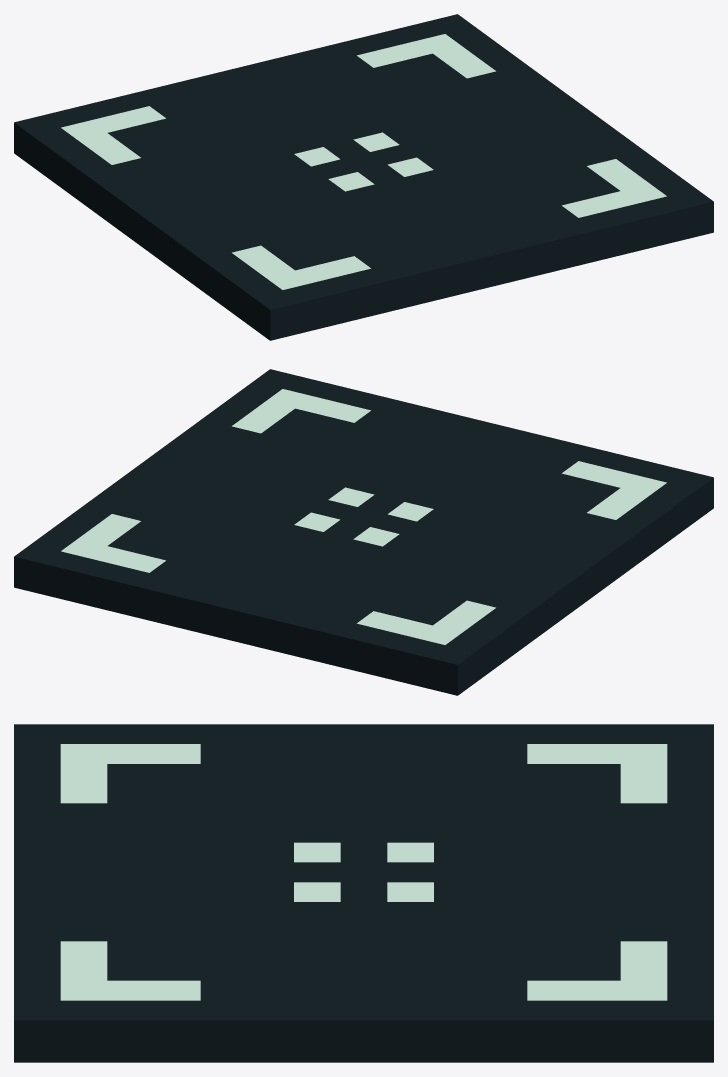
The model's file is Platform.obj.
The picture shows the model from 3 angles, top to bottom: view 1: azimuth 30°, elevation 25°; view 2: azimuth 150°, elevation 25°; view 3: azimuth 270°, elevation 25°; orthographic projection. The views are drawn at different scales.
Size of the model in its own units: 3 by 0.2 by 3.
1 material, 1 textured.
